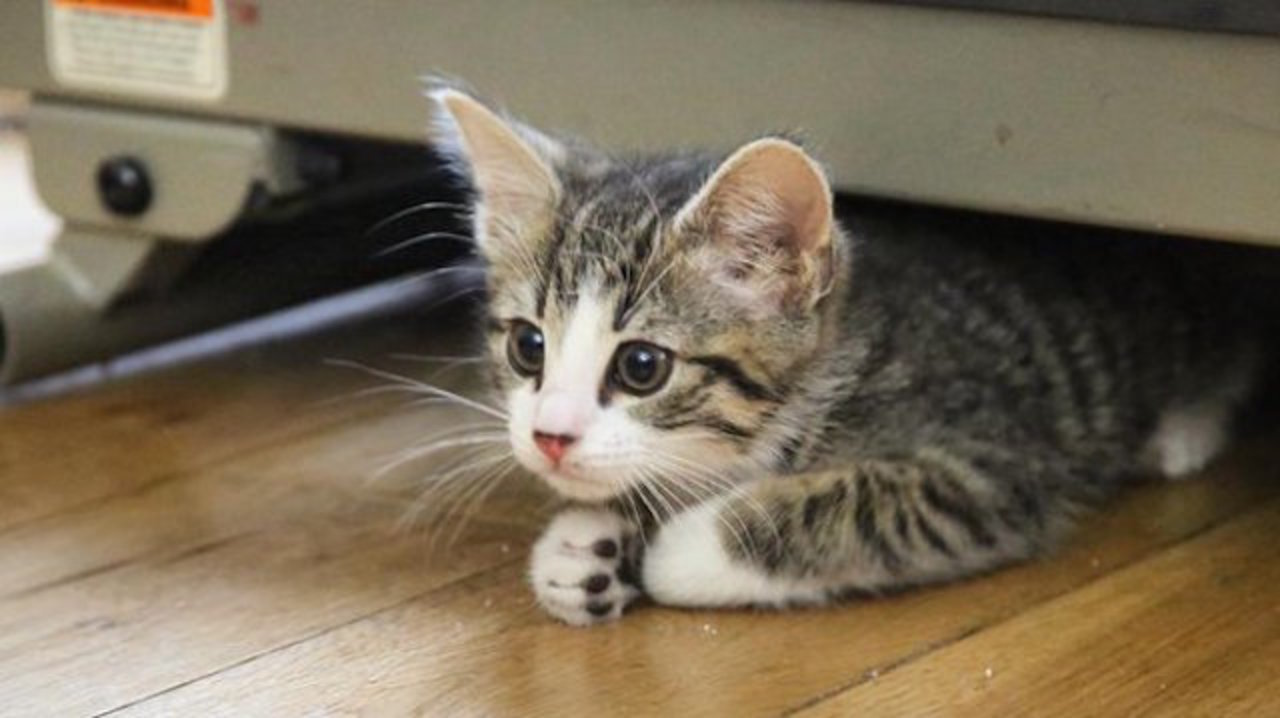cat: (423, 77, 1235, 616)
